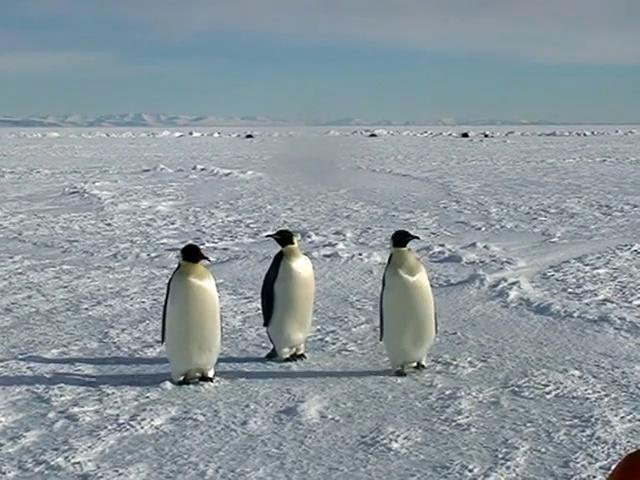animal: (381, 231, 439, 375)
